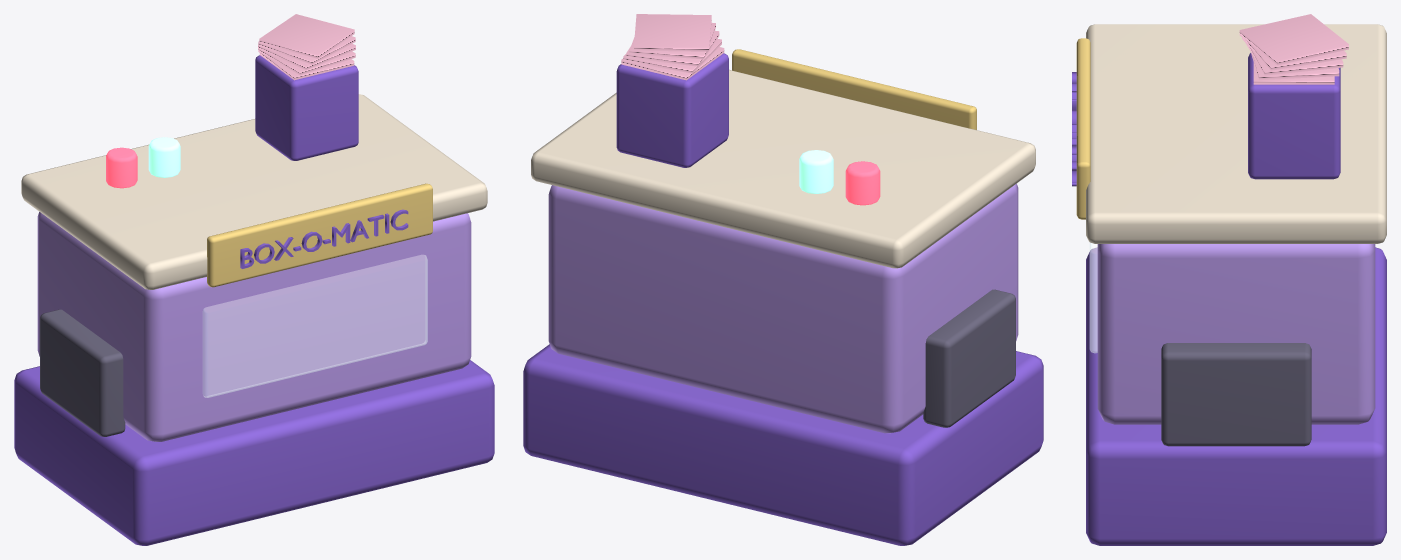
File: candy_box_machine.glb
The picture shows the model from 3 angles, left to right: view 1: azimuth 30°, elevation 25°; view 2: azimuth 150°, elevation 25°; view 3: azimuth 270°, elevation 25°; orthographic projection. The views are drawn at different scales.
Parts seen in each view (by area): view 1: BoxMachine; view 2: BoxMachine; view 3: BoxMachine.
Part boxes in pixels (left/top/right/bottom): BoxMachine: left=14, top=14, right=494, bottom=545; BoxMachine: left=523, top=14, right=1043, bottom=545; BoxMachine: left=1072, top=14, right=1386, bottom=545.
Size of the model in its own units: 4.3 by 4.35 by 2.72.
